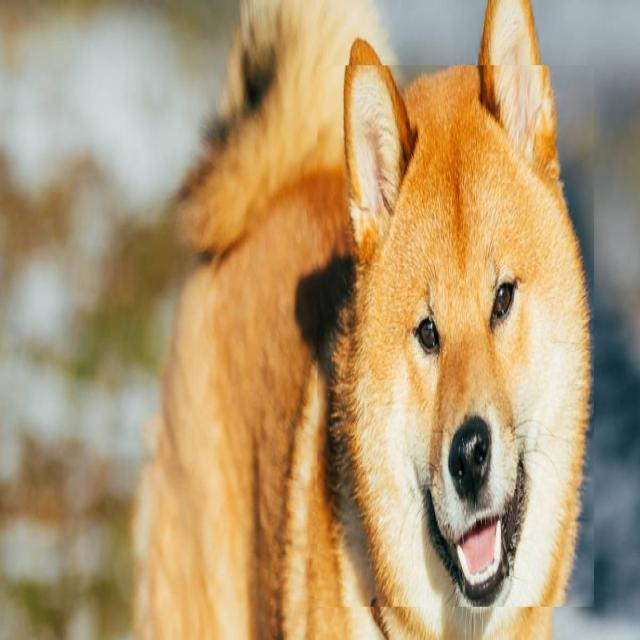Dog: (317, 66, 594, 608)
